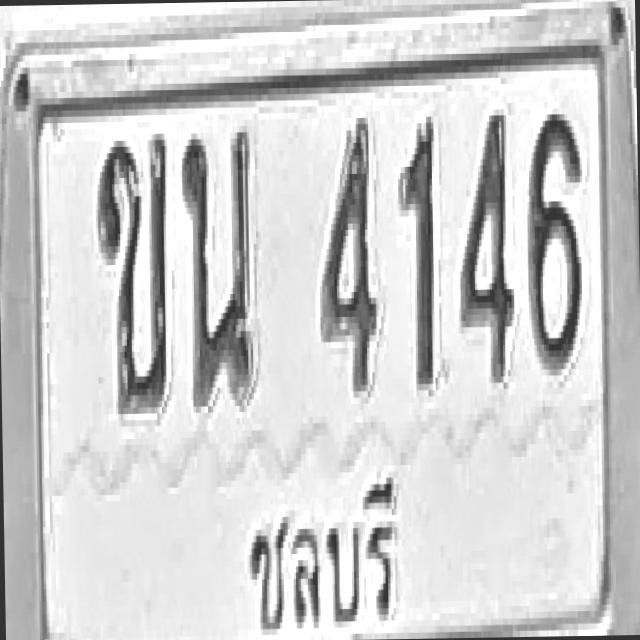1: (397, 117, 438, 390)
11KhorKhai: (95, 130, 170, 411)
34NorNu: (180, 126, 254, 407)
4: (317, 111, 378, 391), (456, 109, 514, 382)
6: (524, 108, 582, 370)
Chonburi: (240, 469, 404, 640)
